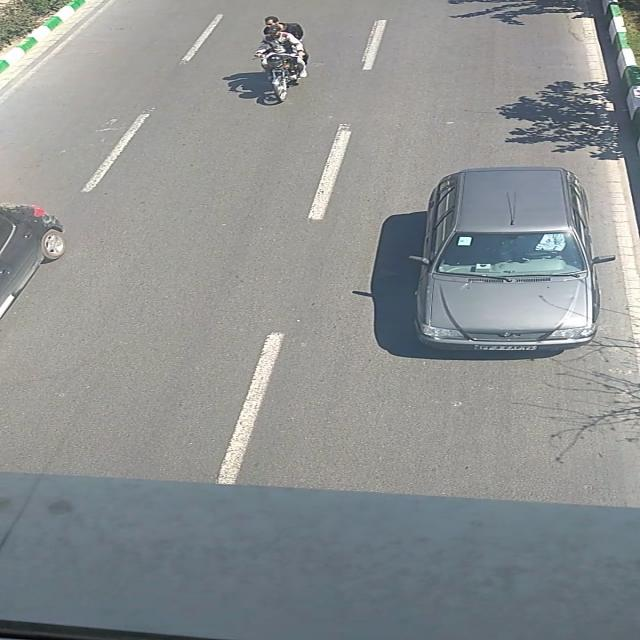car: (408, 168, 615, 350), (0, 200, 62, 324)
motorbike: (253, 15, 303, 104)
